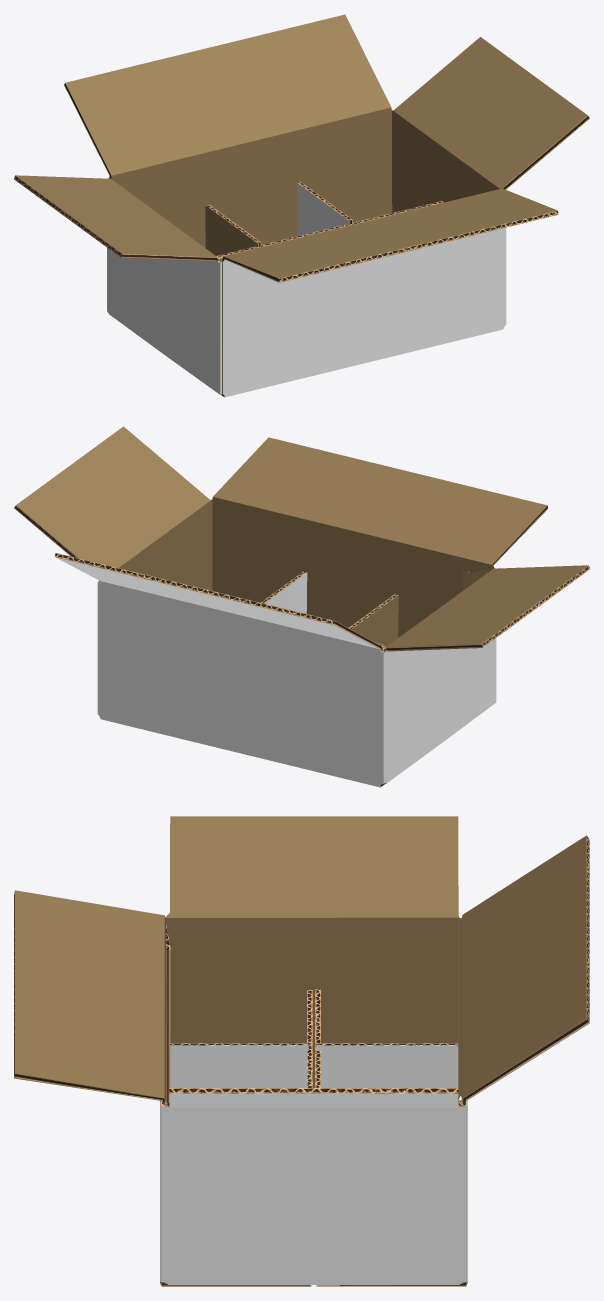
The model's file is blender.gltf.
3 renders of one model, top to bottom at view 1: azimuth 30°, elevation 25°; view 2: azimuth 150°, elevation 25°; view 3: azimuth 270°, elevation 25°, orthographic. The views are drawn at different scales.
Parts seen in each view (by area): view 1: Curve.001; view 2: Curve.001; view 3: Curve.001.
Part boxes in pixels (x1=…): Curve.001: x1=14, y1=14, x2=589, y2=397; Curve.001: x1=14, y1=426, x2=589, y2=787; Curve.001: x1=14, y1=816, x2=589, y2=1286.
Size of the model in its own units: 0.366 by 0.1487 by 0.2902.
Materials: 3 (1 with a texture image).
